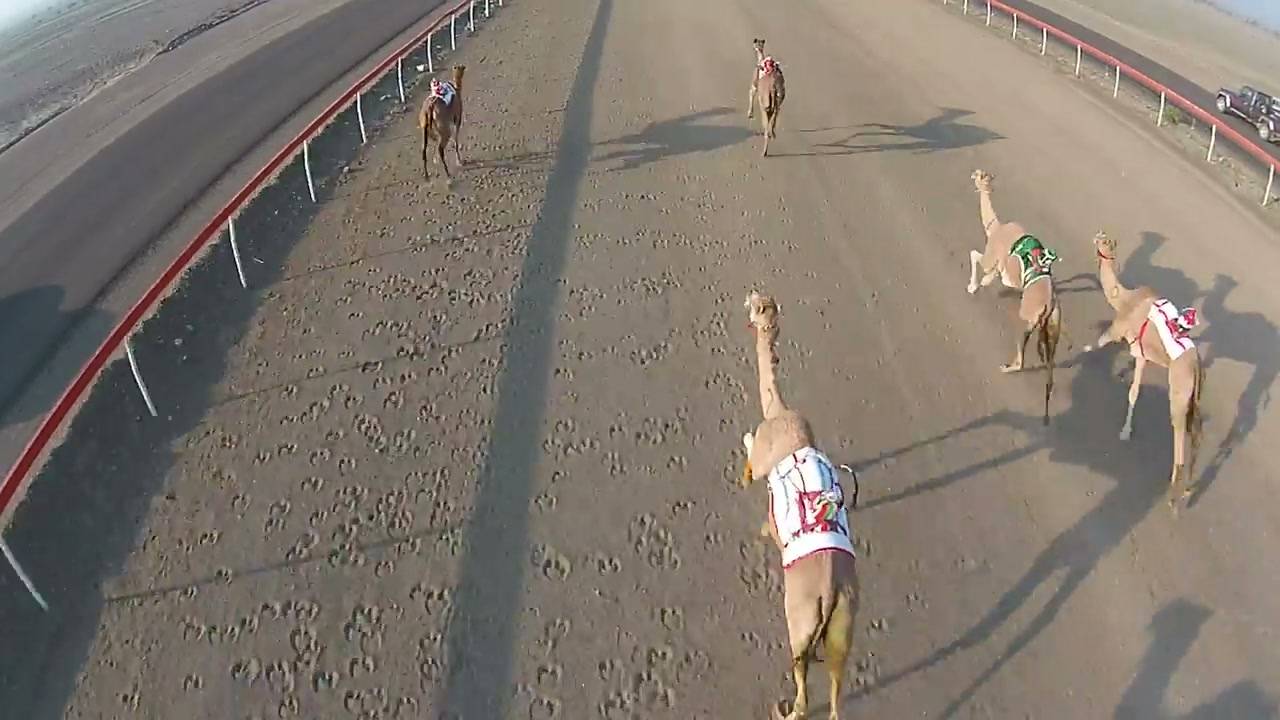animal_foot_print: (180, 166, 509, 713), (522, 158, 786, 708)
